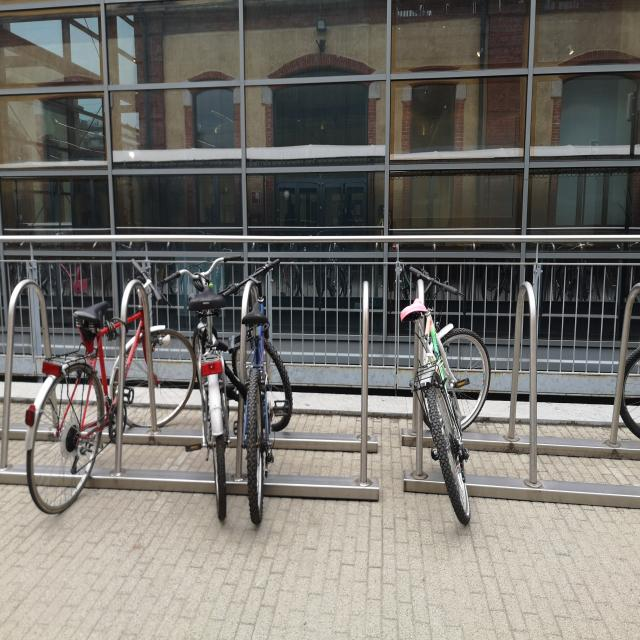Bicycle: (33, 250, 186, 518), (382, 234, 500, 532), (240, 244, 315, 527), (168, 249, 246, 521)
